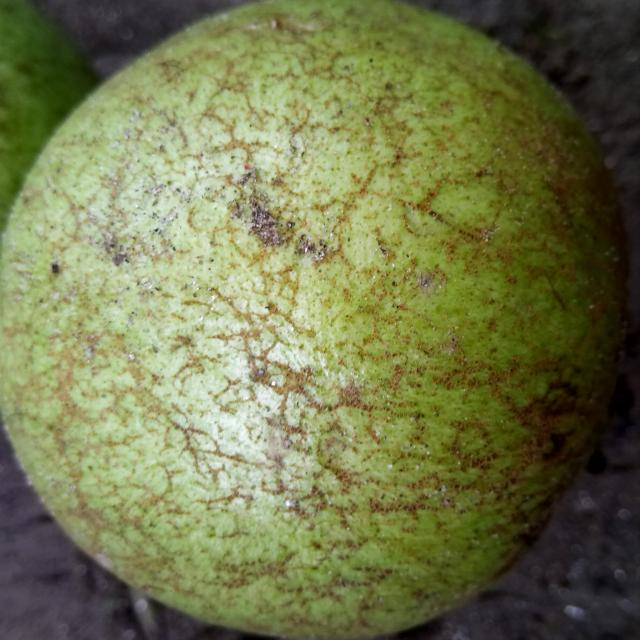Disease Free: (1, 0, 626, 639)
